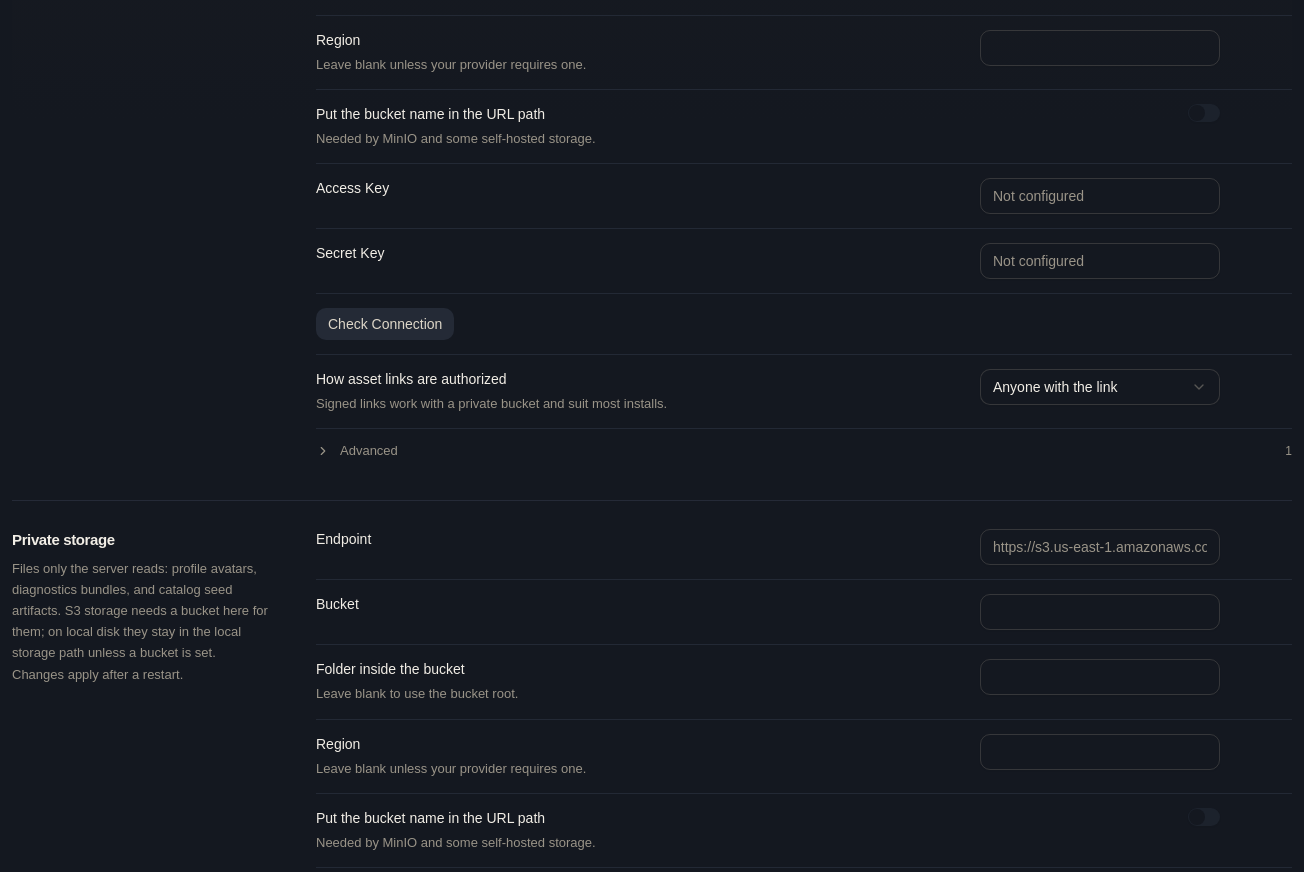
StorageSettings › keeps the public link settings behind public storage's Advanced disclosure
(page scrolled)
expect the field labelled "Address clients download from" is not shown: met
What coordinates should you click on to do the following:
click the button "Advanced 1"
I would click on:
 (369, 450)
Its box is [316,429,1292,472].
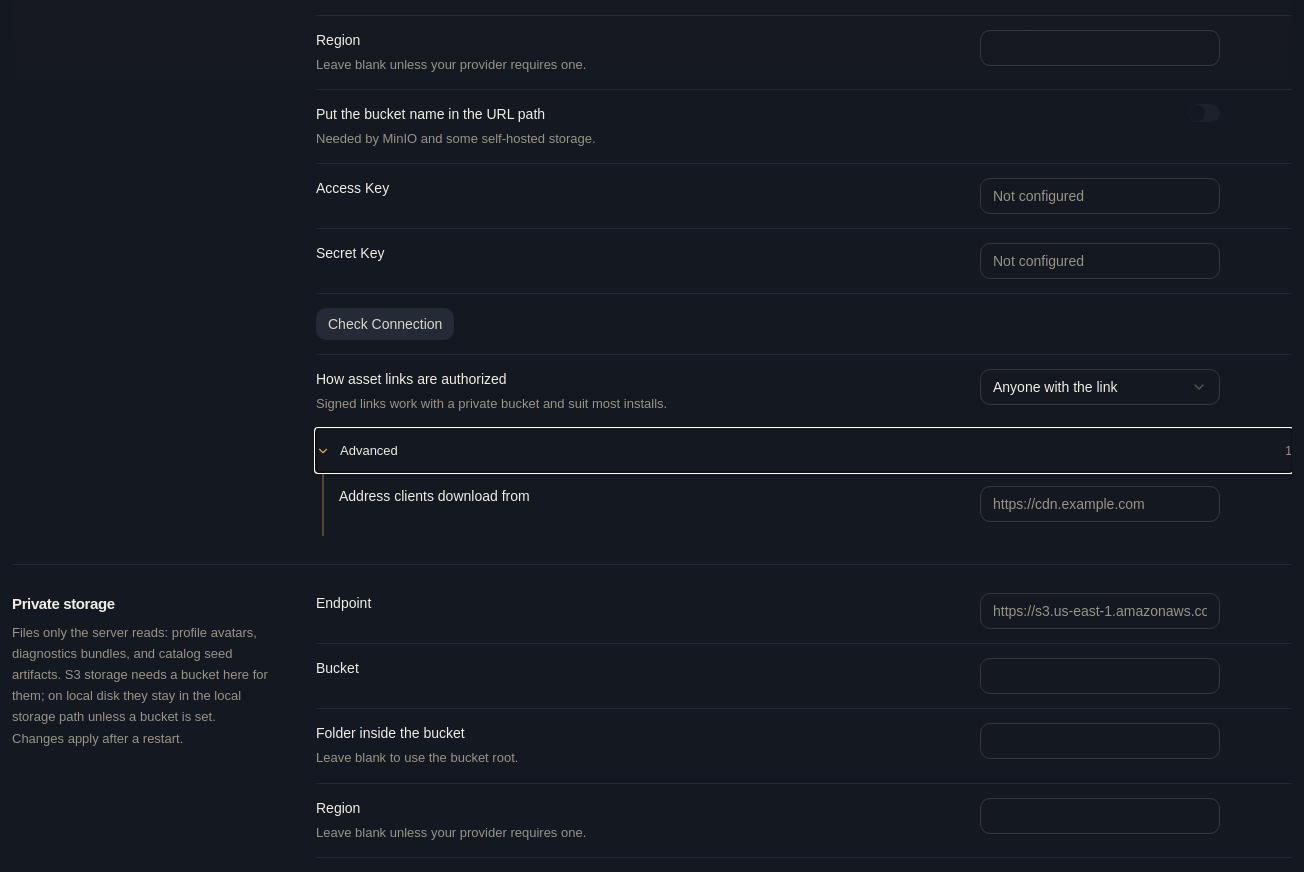
expect the field labelled "Address clients download from" is shown: met, box [980,486,1220,522]
